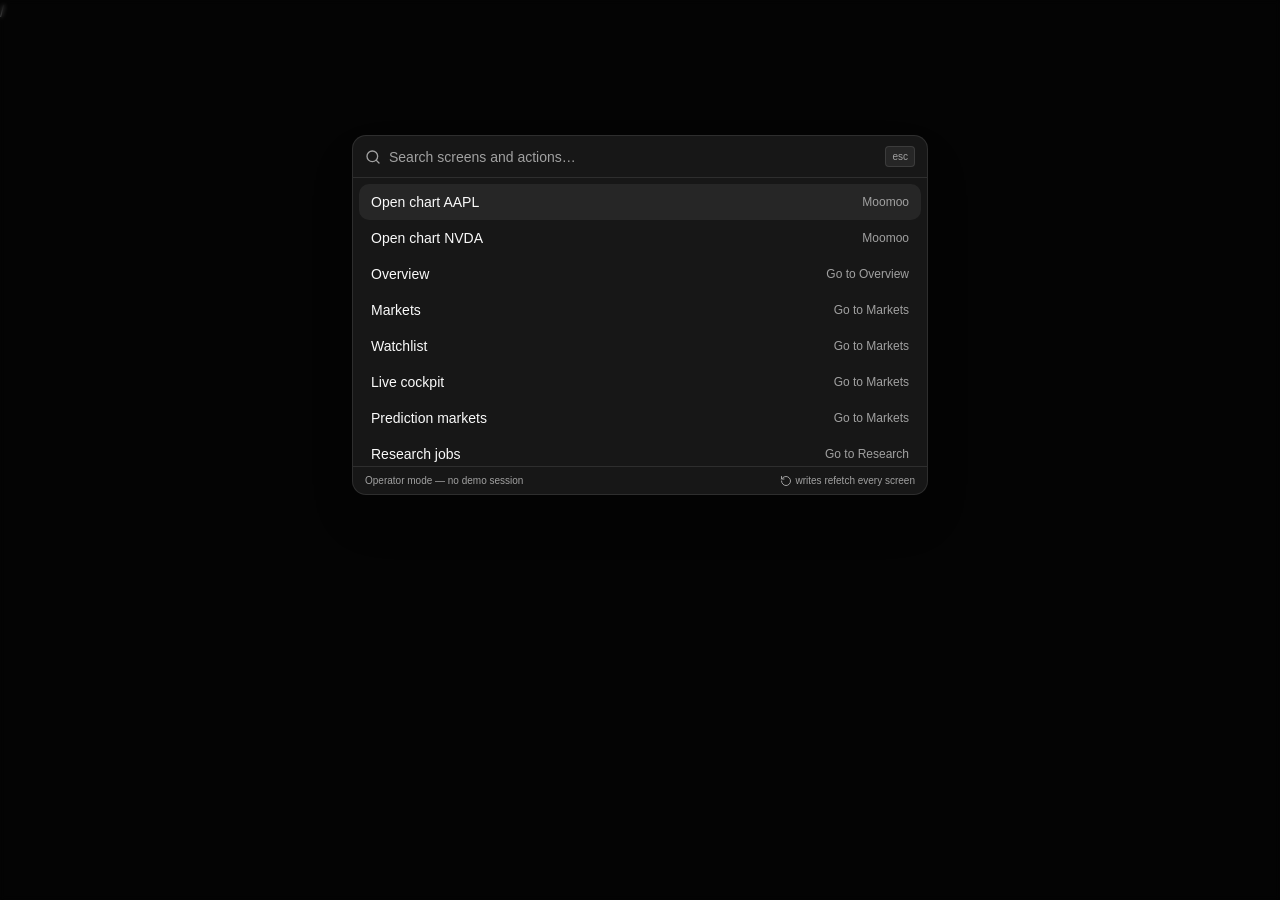
Test: opens a typed ticker from the existing command palette
Type "nvda" into the field at [633, 156], box [389,146,877,166]
Then press Enter
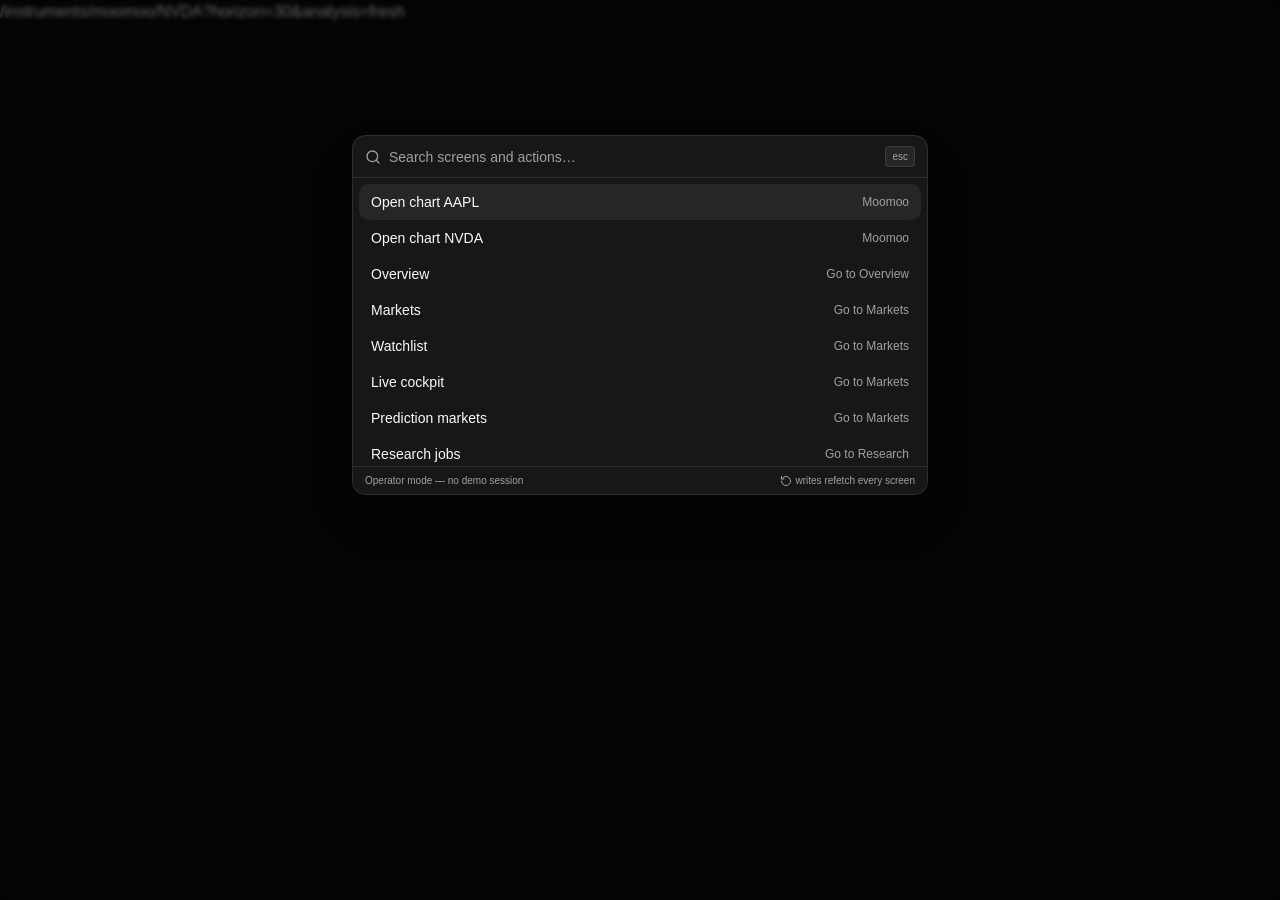
Check: the text with test id "location" reads "/instruments/moomoo/NVDA?horizon=30&analysis=fresh", box [0,3,405,20]
